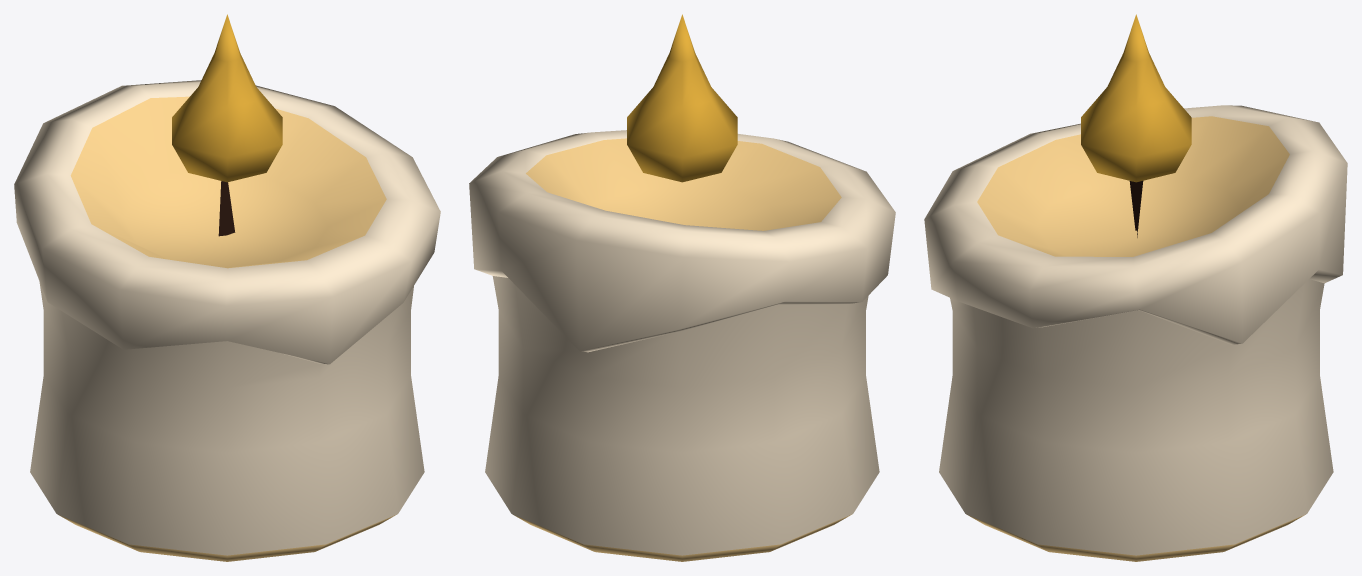
File: Candle_3.fbx
The picture shows the model from 3 angles, left to right: view 1: azimuth 30°, elevation 25°; view 2: azimuth 150°, elevation 25°; view 3: azimuth 270°, elevation 25°; orthographic projection.
Visible parts, largest first — view 1: Candle, Flame; view 2: Candle, Flame; view 3: Candle, Flame.
Part boxes in pixels (x1=…): Candle: x1=14, y1=80, x2=440, y2=561; Flame: x1=172, y1=14, x2=282, y2=182; Candle: x1=469, y1=130, x2=895, y2=561; Flame: x1=627, y1=14, x2=737, y2=182; Candle: x1=924, y1=105, x2=1347, y2=561; Flame: x1=1081, y1=14, x2=1191, y2=182.
Bounding box in the file's own units: 14.2 × 17.36 × 14.05.
